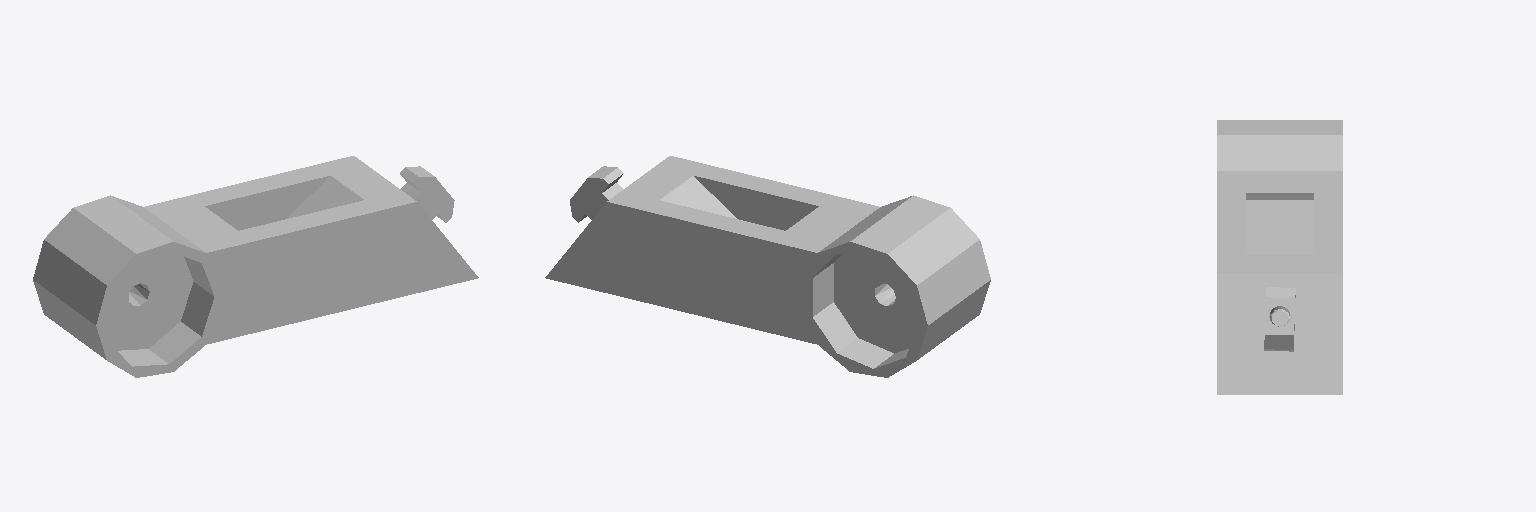
Rendered from Baugruppe_ohne_Bar.obj.
3 renders of one model, left to right at view 1: azimuth 30°, elevation 25°; view 2: azimuth 150°, elevation 25°; view 3: azimuth 270°, elevation 25°, orthographic.
Visible parts, largest first — view 1: Volumenkörper1, Volumenkörper1:1; view 2: Volumenkörper1, Volumenkörper1:1; view 3: Volumenkörper1, Volumenkörper1:1.
Boxes of the visible parts, x1,y1,x2,y2 form: Volumenkörper1: [33, 156, 478, 377]; Volumenkörper1:1: [400, 166, 454, 222]; Volumenkörper1: [545, 156, 990, 377]; Volumenkörper1:1: [570, 166, 623, 222]; Volumenkörper1: [1217, 120, 1342, 394]; Volumenkörper1:1: [1264, 287, 1295, 351].
Size of the model in its own units: 105 by 34.17 by 30.